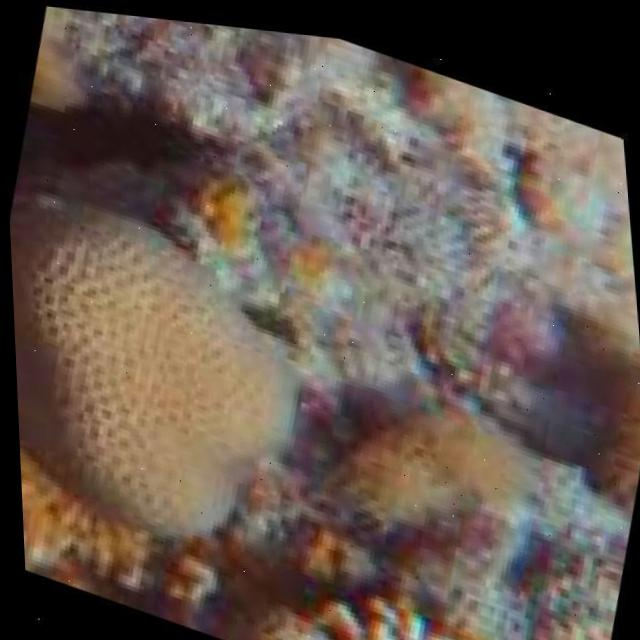Healthy Coral: (6, 166, 312, 562)
